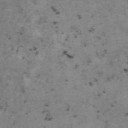oxide scale of temperature system: (50, 5, 128, 114), (8, 30, 40, 56), (41, 104, 78, 121), (0, 101, 8, 112), (20, 86, 26, 93), (124, 112, 128, 116)
